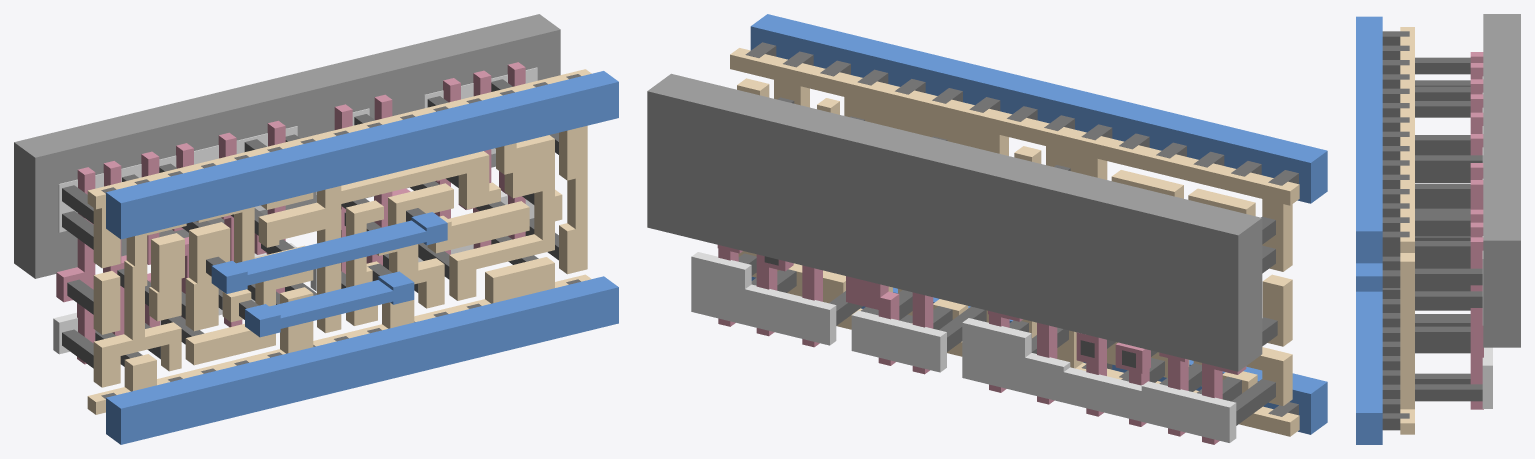
File: sky130_fd_sc_hd__sdlclkp_1.gds.gltf
3 views of the same model, side by side, from view 1: azimuth 30°, elevation 25°; view 2: azimuth 150°, elevation 25°; view 3: azimuth 270°, elevation 25° (orthographic). The views are drawn at different scales.
Parts seen in each view (by area): view 1: sky130_fd_sc_hd__sdlclkp_1_met1, sky130_fd_sc_hd__sdlclkp_1_li1, sky130_fd_sc_hd__sdlclkp_1_nwell, sky130_fd_sc_hd__sdlclkp_1_poly, sky130_fd_sc_hd__sdlclkp_1_licon, sky130_fd_sc_hd__sdlclkp_1_diff, sky130_fd_sc_hd__sdlclkp_1_mcon; view 2: sky130_fd_sc_hd__sdlclkp_1_nwell, sky130_fd_sc_hd__sdlclkp_1_li1, sky130_fd_sc_hd__sdlclkp_1_diff, sky130_fd_sc_hd__sdlclkp_1_met1, sky130_fd_sc_hd__sdlclkp_1_poly, sky130_fd_sc_hd__sdlclkp_1_licon, sky130_fd_sc_hd__sdlclkp_1_mcon; view 3: sky130_fd_sc_hd__sdlclkp_1_licon, sky130_fd_sc_hd__sdlclkp_1_nwell, sky130_fd_sc_hd__sdlclkp_1_met1, sky130_fd_sc_hd__sdlclkp_1_mcon, sky130_fd_sc_hd__sdlclkp_1_li1, sky130_fd_sc_hd__sdlclkp_1_poly, sky130_fd_sc_hd__sdlclkp_1_diff.
Part boxes in pixels (x1=…): sky130_fd_sc_hd__sdlclkp_1_met1: x1=106, y1=71, x2=618, y2=444; sky130_fd_sc_hd__sdlclkp_1_li1: x1=87, y1=69, x2=591, y2=414; sky130_fd_sc_hd__sdlclkp_1_nwell: x1=14, y1=14, x2=560, y2=278; sky130_fd_sc_hd__sdlclkp_1_poly: x1=56, y1=62, x2=525, y2=364; sky130_fd_sc_hd__sdlclkp_1_licon: x1=62, y1=79, x2=558, y2=368; sky130_fd_sc_hd__sdlclkp_1_diff: x1=53, y1=67, x2=537, y2=354; sky130_fd_sc_hd__sdlclkp_1_mcon: x1=101, y1=74, x2=581, y2=398; sky130_fd_sc_hd__sdlclkp_1_nwell: x1=647, y1=73, x2=1262, y2=371; sky130_fd_sc_hd__sdlclkp_1_li1: x1=730, y1=48, x2=1299, y2=436; sky130_fd_sc_hd__sdlclkp_1_diff: x1=691, y1=252, x2=1236, y2=442; sky130_fd_sc_hd__sdlclkp_1_met1: x1=750, y1=14, x2=1327, y2=434; sky130_fd_sc_hd__sdlclkp_1_poly: x1=717, y1=245, x2=1246, y2=444; sky130_fd_sc_hd__sdlclkp_1_licon: x1=738, y1=97, x2=1277, y2=425; sky130_fd_sc_hd__sdlclkp_1_mcon: x1=745, y1=42, x2=1298, y2=416; sky130_fd_sc_hd__sdlclkp_1_licon: x1=1415, y1=57, x2=1482, y2=401; sky130_fd_sc_hd__sdlclkp_1_nwell: x1=1483, y1=14, x2=1520, y2=347; sky130_fd_sc_hd__sdlclkp_1_met1: x1=1356, y1=16, x2=1382, y2=444; sky130_fd_sc_hd__sdlclkp_1_mcon: x1=1382, y1=31, x2=1409, y2=430; sky130_fd_sc_hd__sdlclkp_1_li1: x1=1400, y1=27, x2=1414, y2=434; sky130_fd_sc_hd__sdlclkp_1_poly: x1=1470, y1=52, x2=1483, y2=409; sky130_fd_sc_hd__sdlclkp_1_diff: x1=1482, y1=76, x2=1492, y2=408.
Size of the model in its own units: 7.28 by 3.2 by 2.24.
